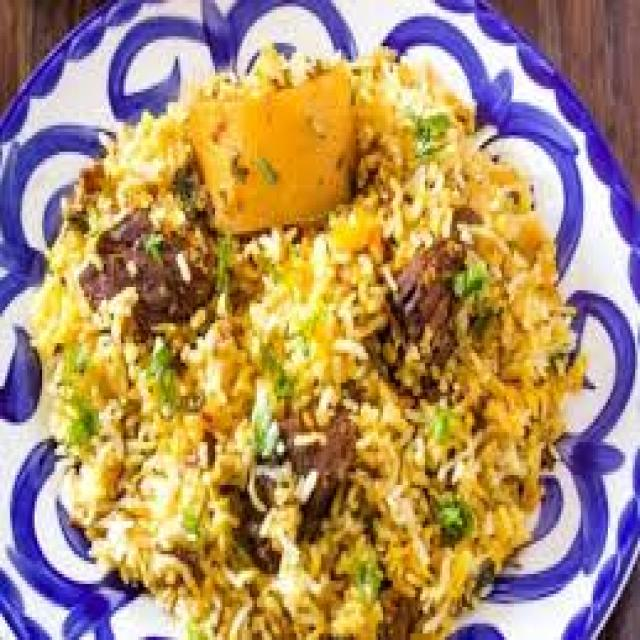Wet Waste: (47, 69, 586, 640)
